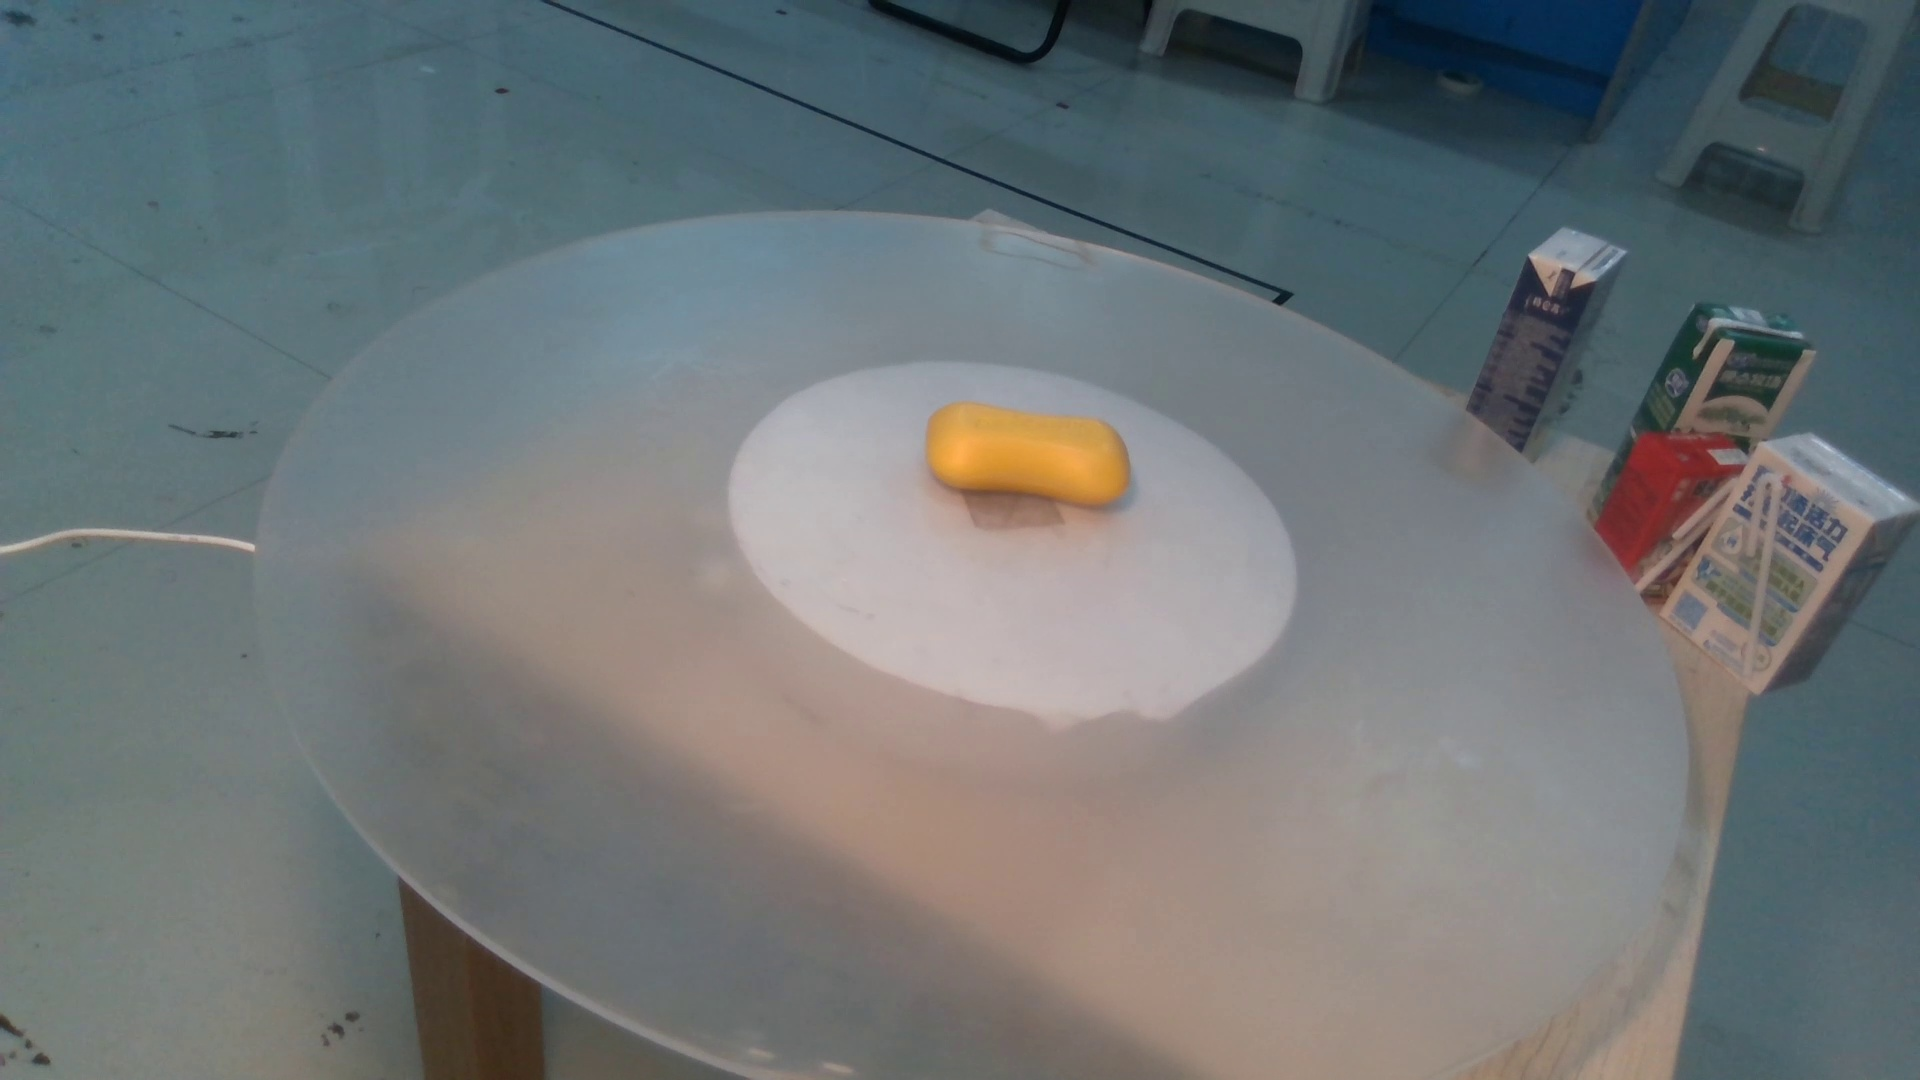CA003_1: (918, 386, 1170, 531)
